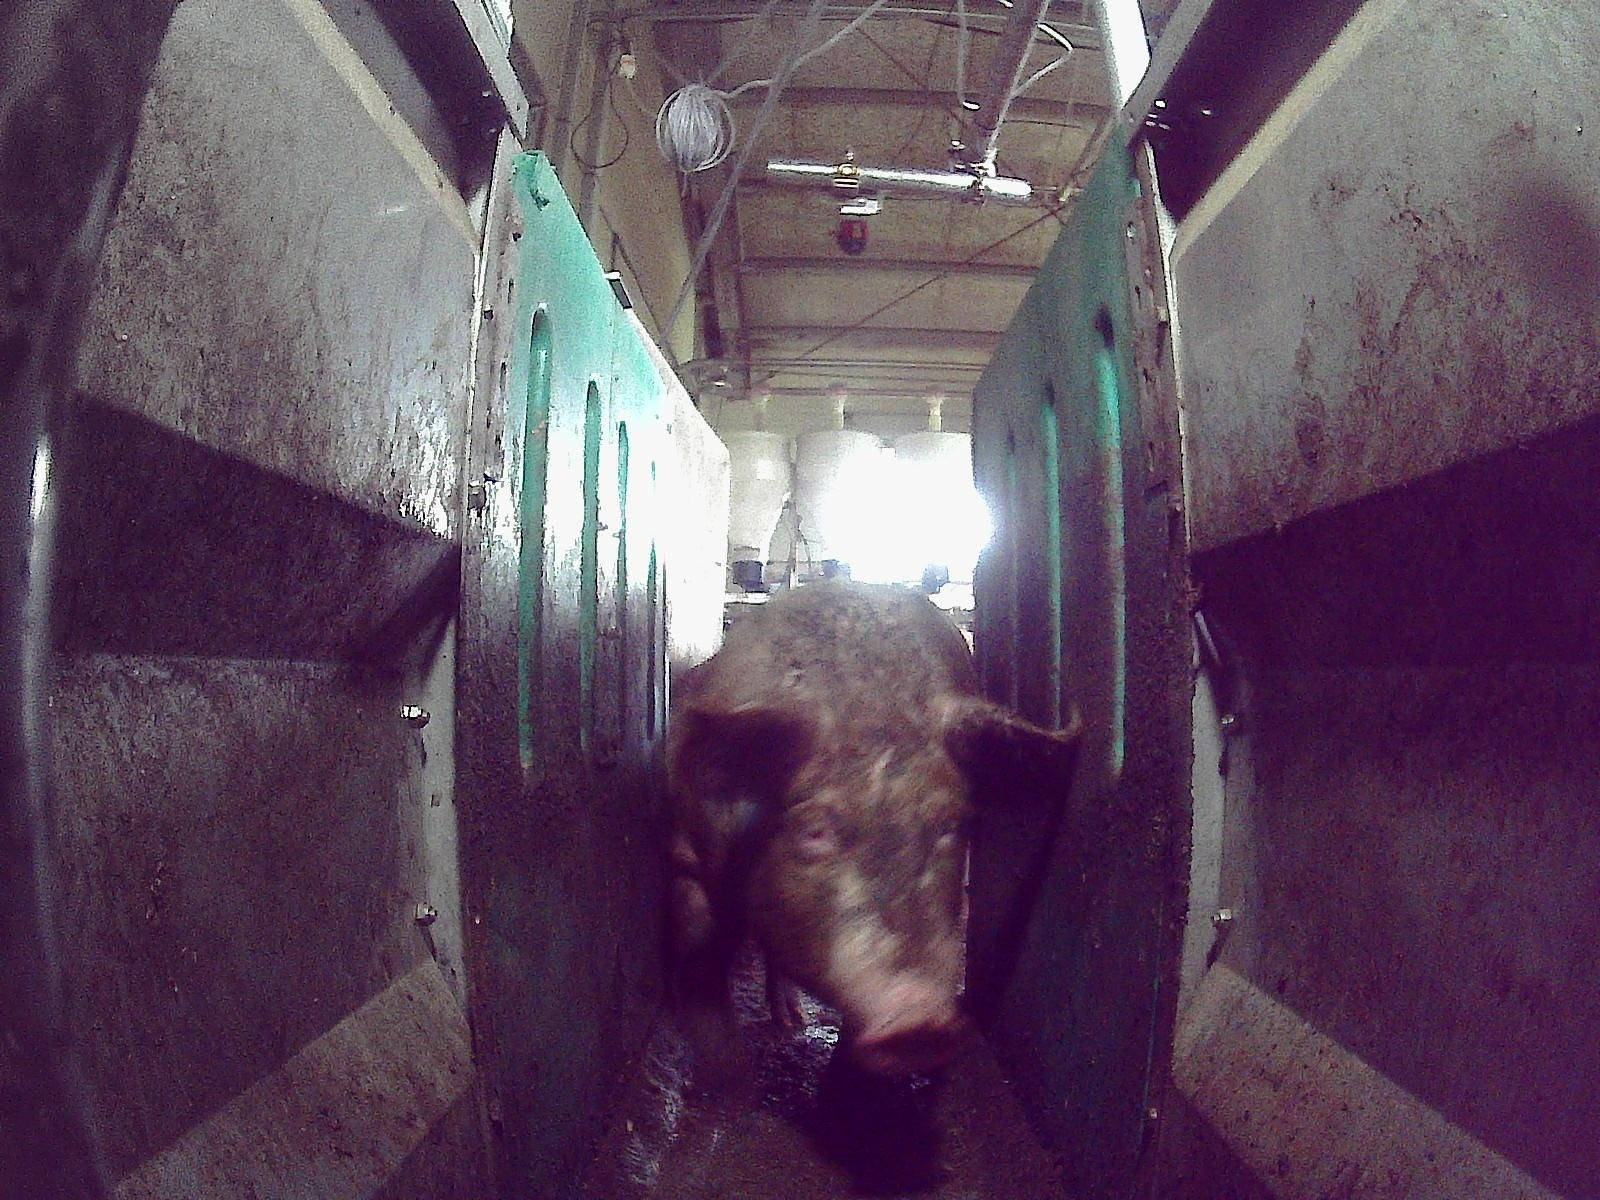Face: (763, 720, 969, 1072)
